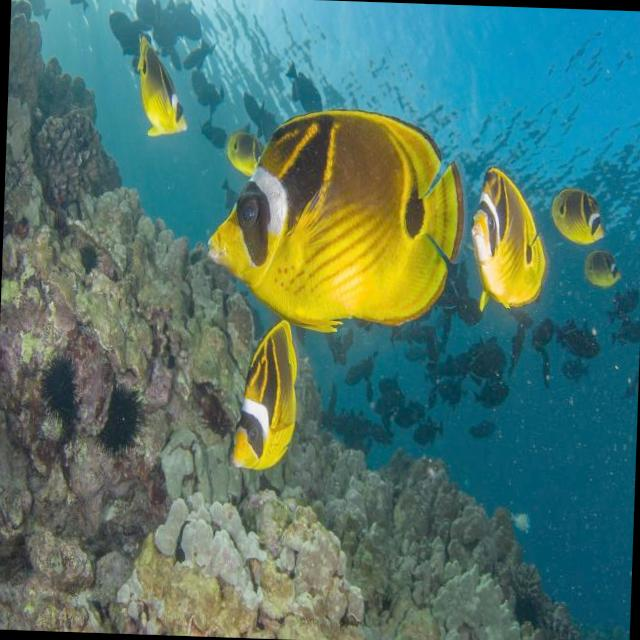ButterflyFish: (204, 103, 462, 330), (474, 168, 548, 322), (230, 318, 301, 466), (135, 34, 190, 144), (553, 181, 607, 248), (224, 121, 268, 178), (585, 250, 622, 290)
